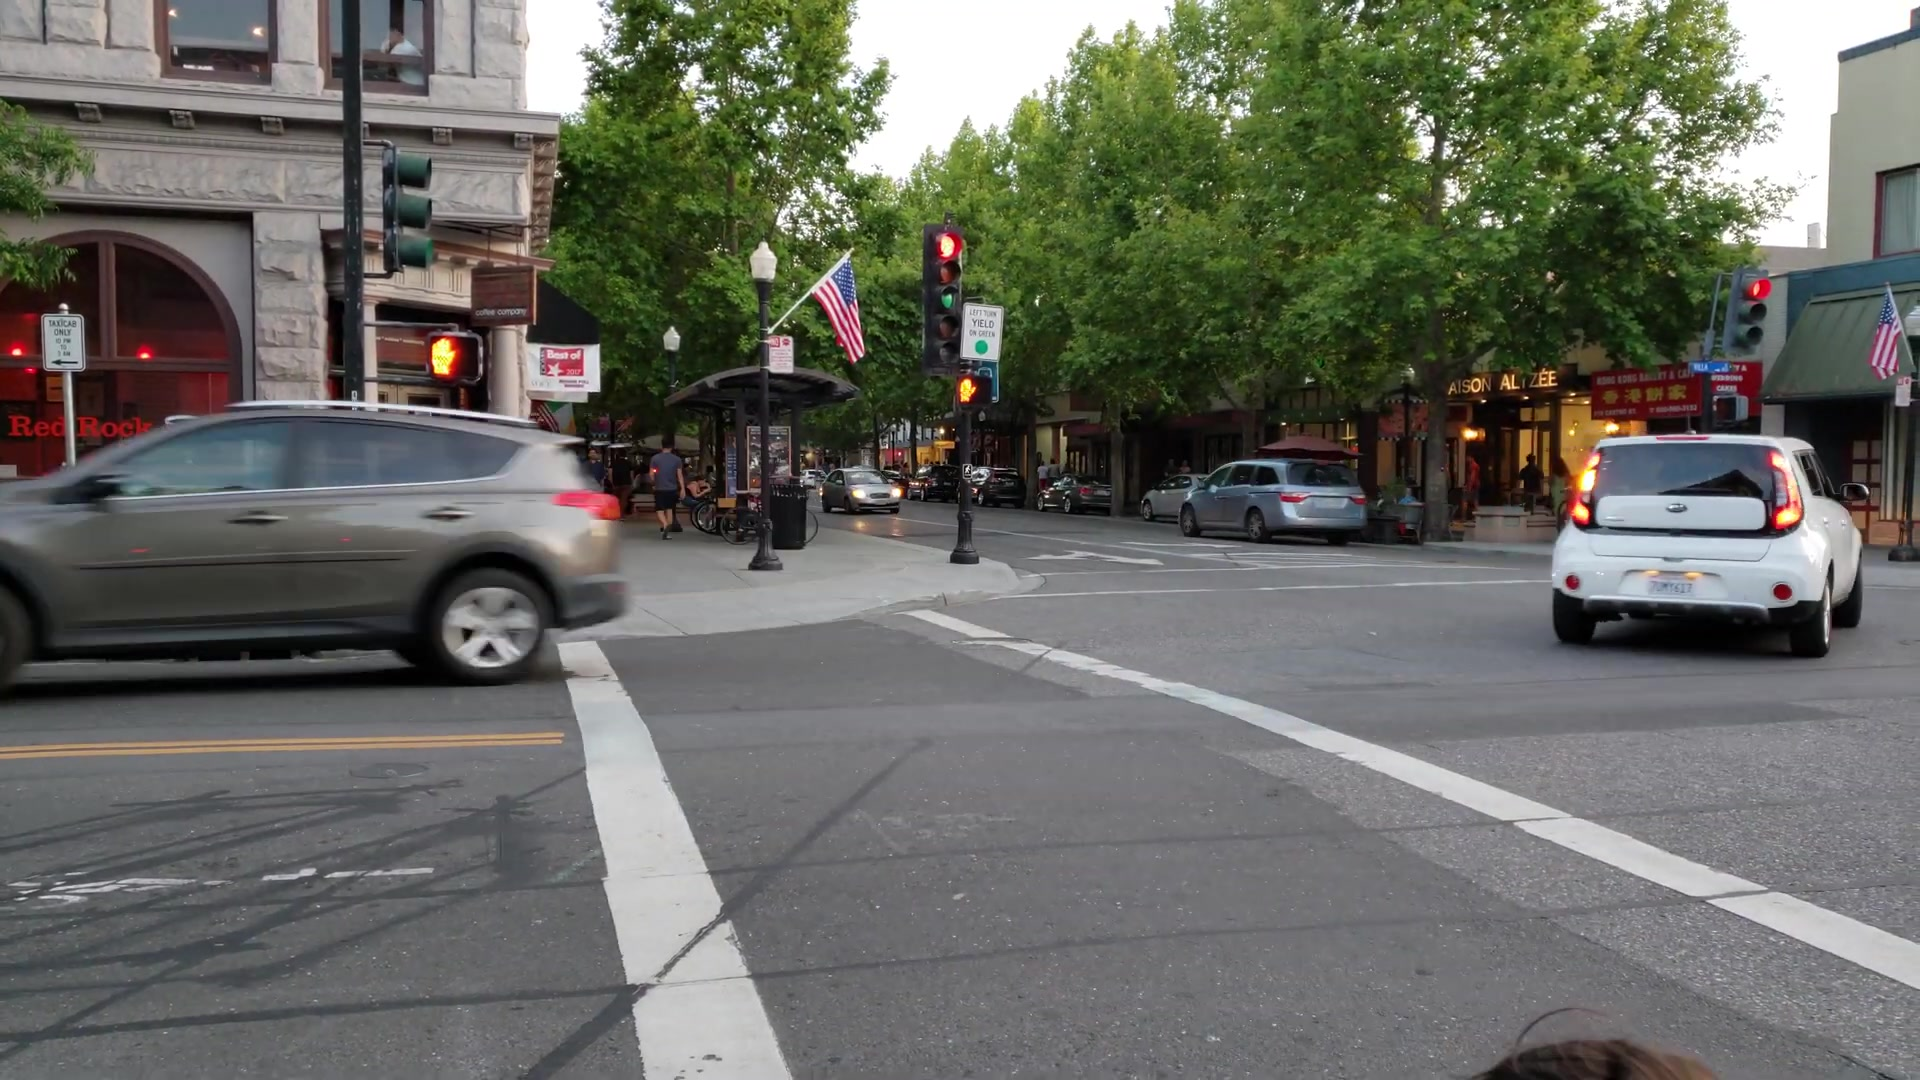vehicle: (7, 396, 628, 691), (1545, 434, 1874, 659), (1182, 459, 1367, 549), (819, 465, 905, 516)
